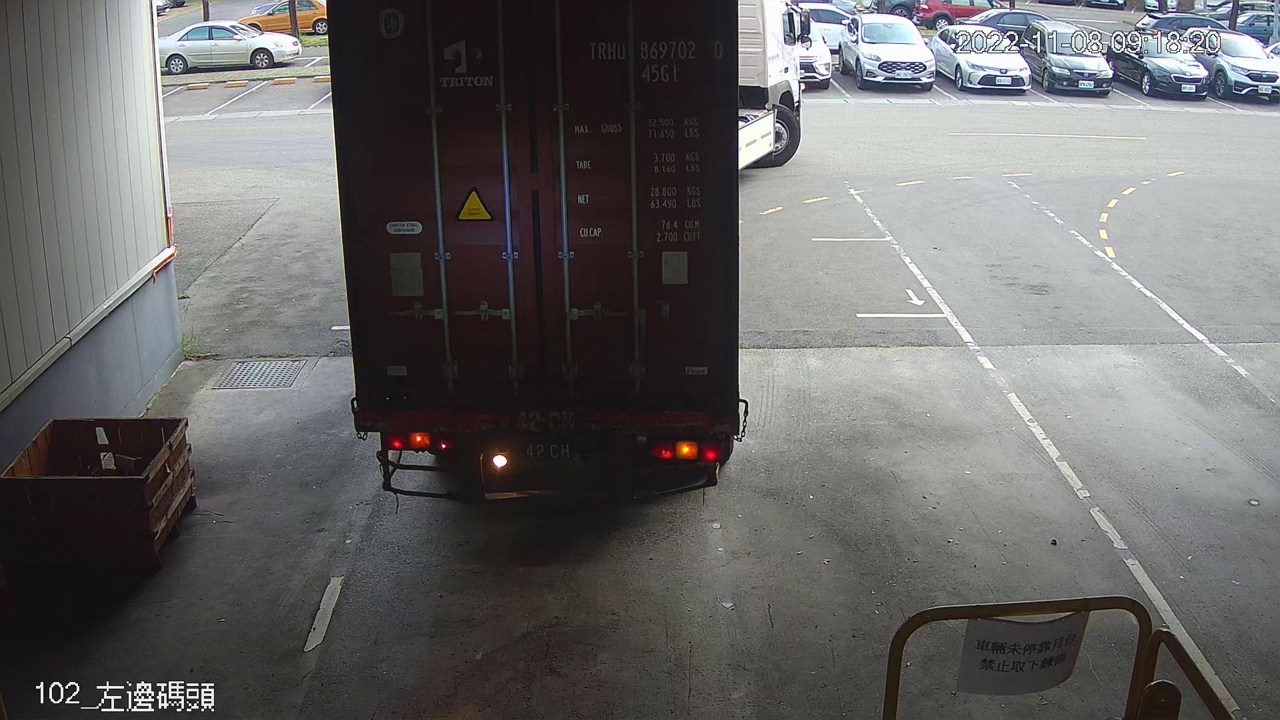container: (581, 32, 728, 92)
